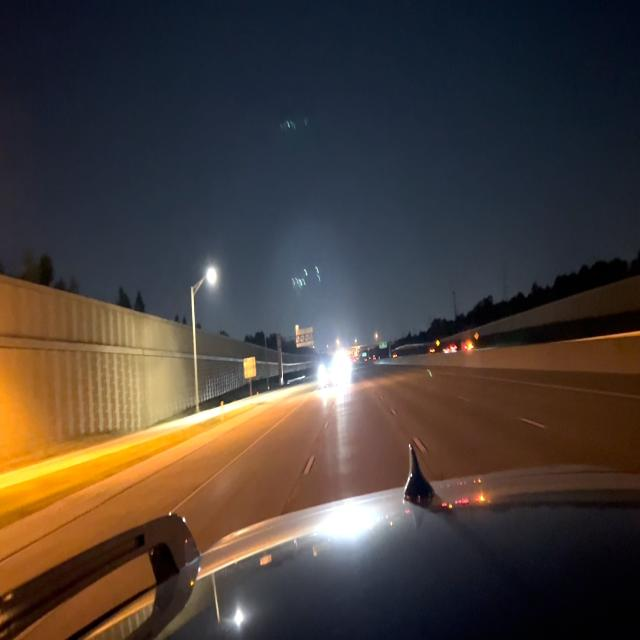back-of-sign: (244, 356, 256, 379)
